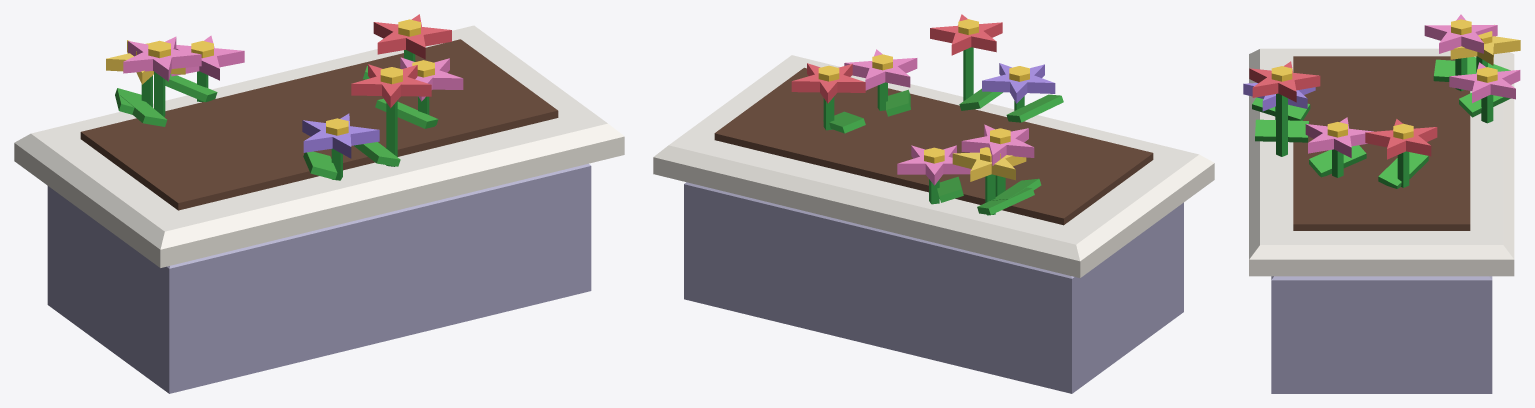
The model's file is Planter_1.glb.
3 renders of one model, left to right at view 1: azimuth 30°, elevation 25°; view 2: azimuth 150°, elevation 25°; view 3: azimuth 270°, elevation 25°, orthographic. The views are drawn at different scales.
Visible parts, largest first — view 1: Planter_1; view 2: Planter_1; view 3: Planter_1.
Part boxes in pixels (x1,y1,x2,y2): Planter_1: (14, 14, 624, 393); Planter_1: (653, 14, 1214, 393); Planter_1: (1243, 14, 1520, 393).
Size of the model in its own units: 6.6 by 3.55 by 3.76.
Materials: 1 (1 with a texture image).
